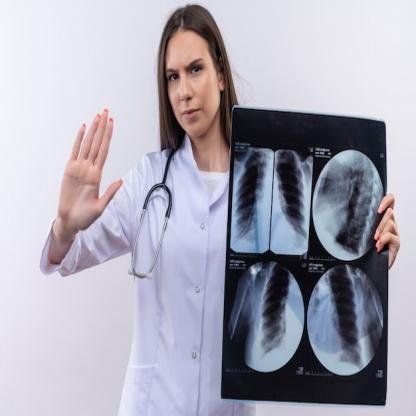stop: (54, 105, 124, 232)
